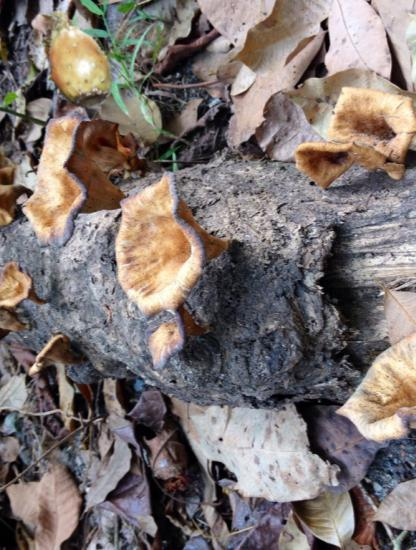Cactus: (22, 6, 128, 112)
